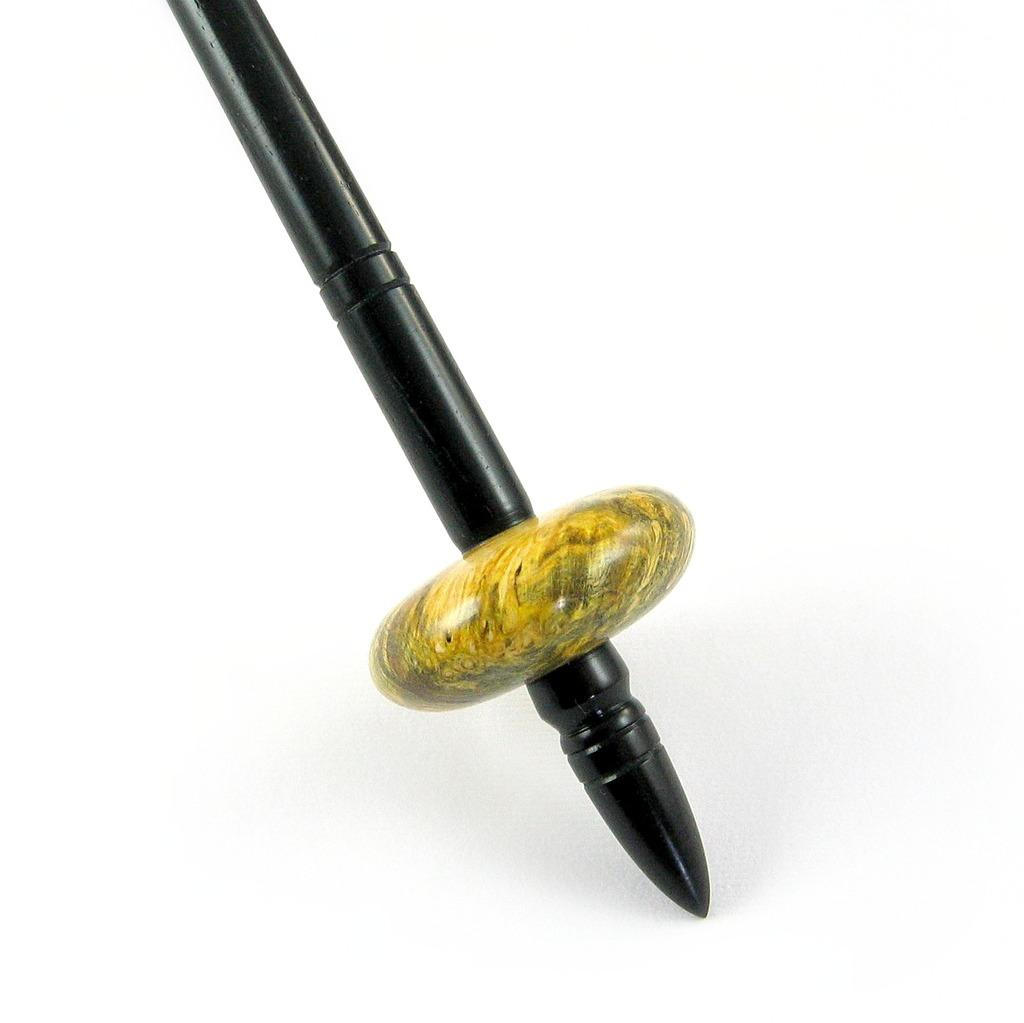pen: (149, 0, 709, 923)
